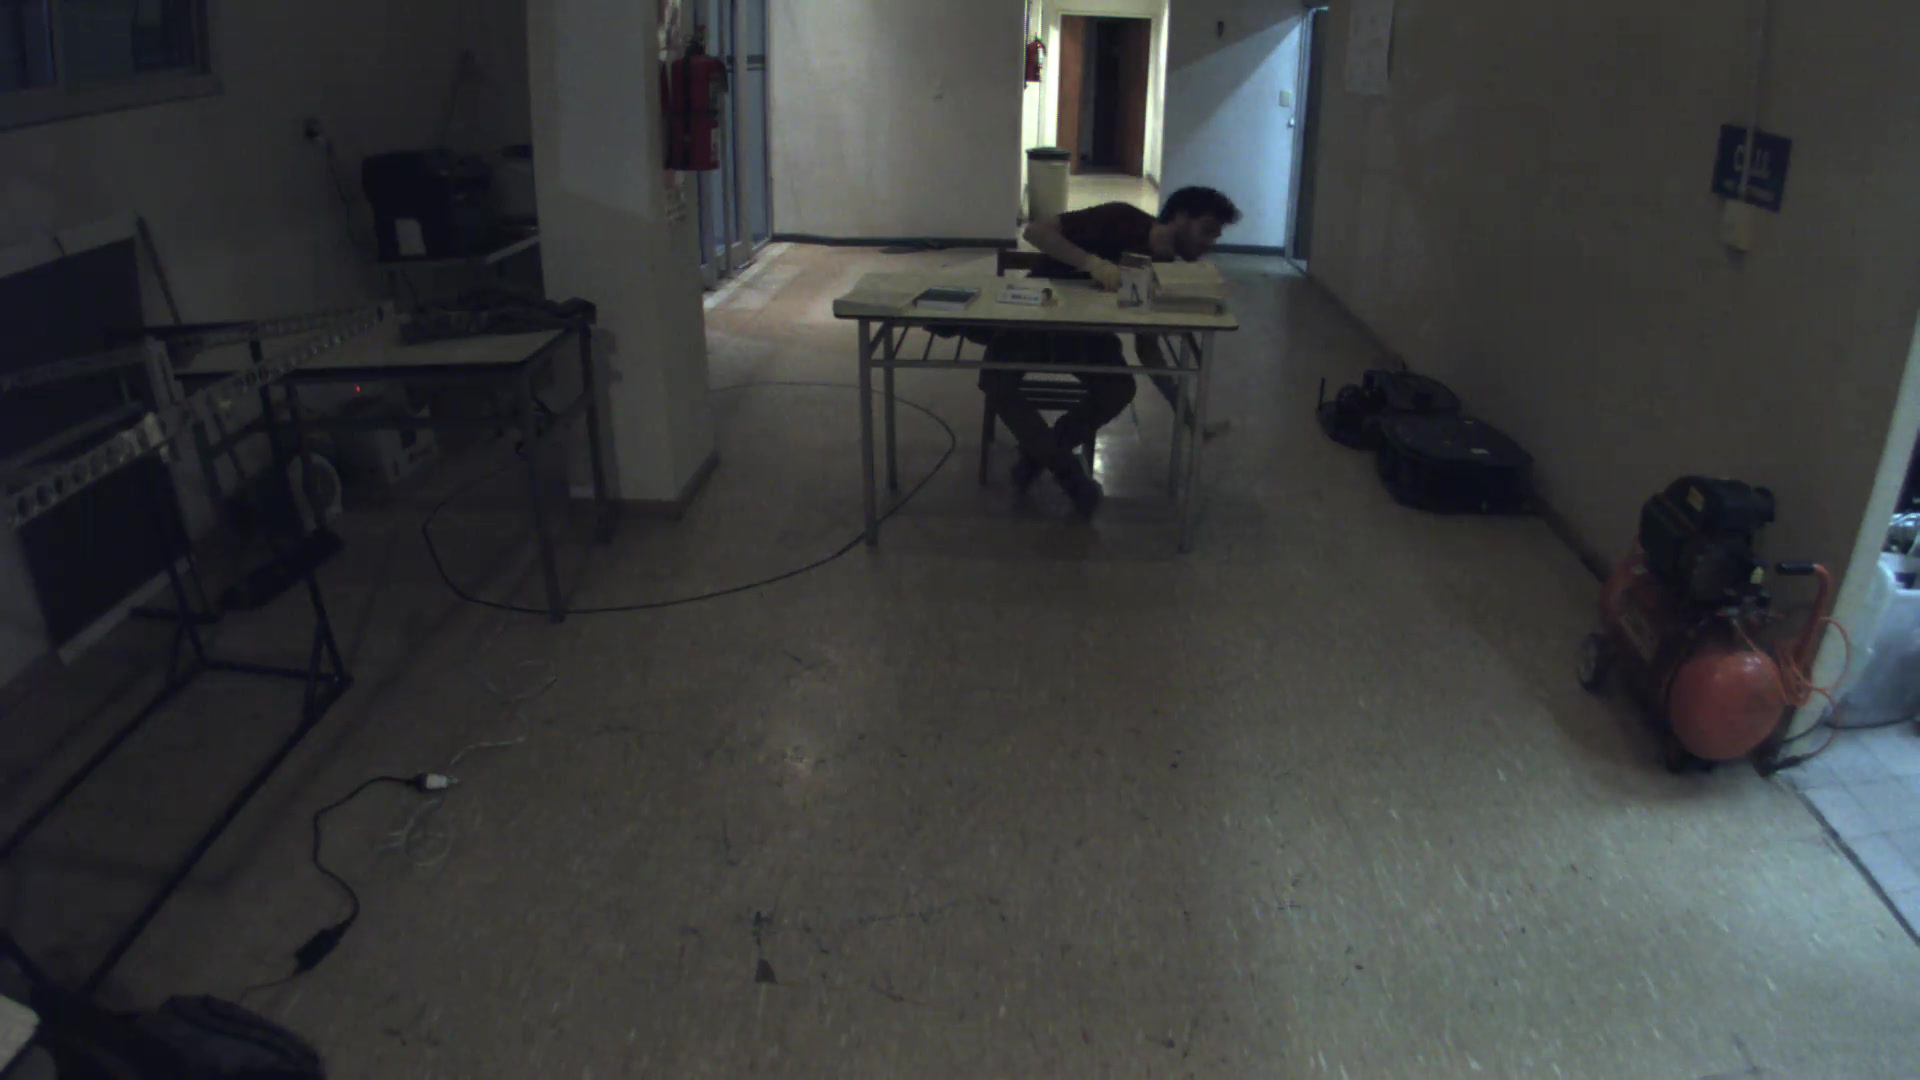hand: (1075, 245, 1118, 290)
